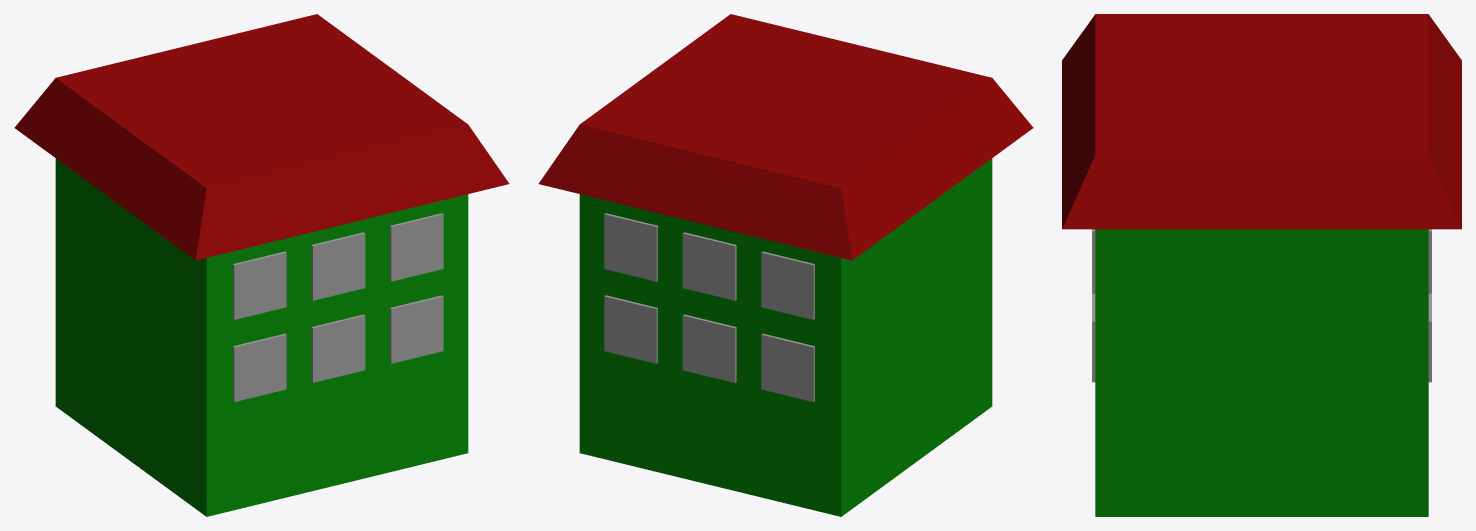
3 views of the same model, side by side, from view 1: azimuth 30°, elevation 25°; view 2: azimuth 150°, elevation 25°; view 3: azimuth 270°, elevation 25° (orthographic). The views are drawn at different scales.
Visible parts, largest first — view 1: node; view 2: node; view 3: node.
Boxes of the visible parts, x1=… form: node: x1=14, y1=14, x2=509, y2=516; node: x1=538, y1=14, x2=1033, y2=516; node: x1=1062, y1=14, x2=1461, y2=516.
Size of the model in its own units: 12 by 12 by 12.
